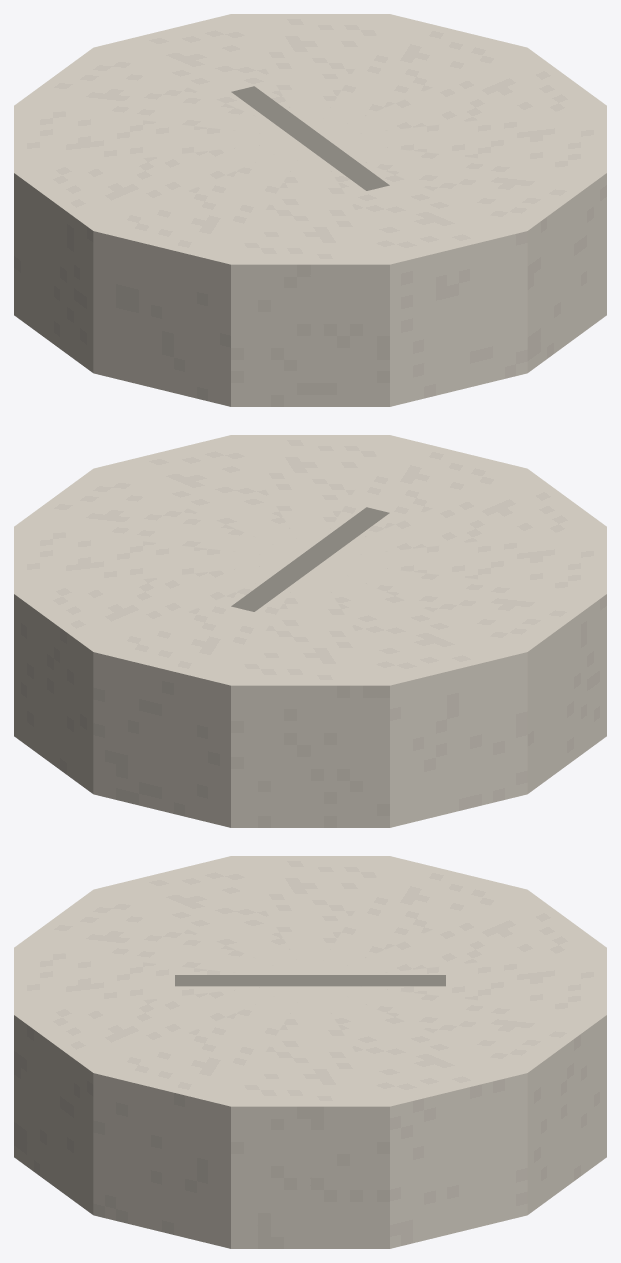
Rendered from calcium_tablet.glb.
The picture shows the model from 3 angles, top to bottom: view 1: azimuth 30°, elevation 25°; view 2: azimuth 150°, elevation 25°; view 3: azimuth 270°, elevation 25°; orthographic projection.
Visible parts, largest first — view 1: block_pressed tablet, block_score; view 2: block_pressed tablet, block_score; view 3: block_pressed tablet, block_score.
Part boxes in pixels (x1=…): block_pressed tablet: x1=14, y1=14, x2=606, y2=406; block_score: x1=231, y1=86, x2=389, y2=190; block_pressed tablet: x1=14, y1=435, x2=606, y2=827; block_score: x1=231, y1=507, x2=389, y2=611; block_pressed tablet: x1=14, y1=856, x2=606, y2=1248; block_score: x1=175, y1=975, x2=445, y2=986.
Size of the model in its own units: 0.0248 by 0.0066 by 0.0248.
1 material, 1 textured.
